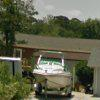Boat: (34, 46, 79, 94)
